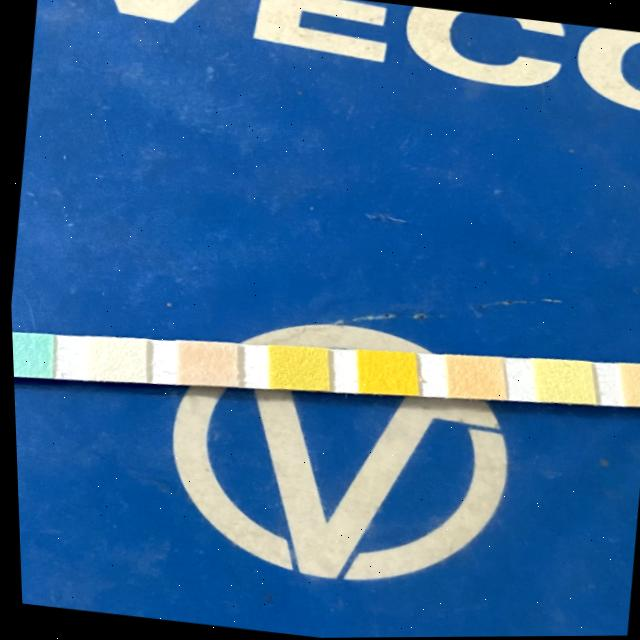Bilirubin: (81, 336, 144, 383)
Blood: (352, 350, 414, 397)
Glucose: (10, 333, 51, 376)
Ketone: (173, 340, 236, 388)
Protein: (531, 359, 589, 405)
SpGravity: (267, 345, 326, 392)
Urobilinogen: (617, 363, 640, 406)
pH: (444, 355, 502, 401)
